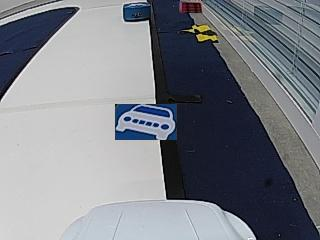prop: (123, 2, 149, 22)
